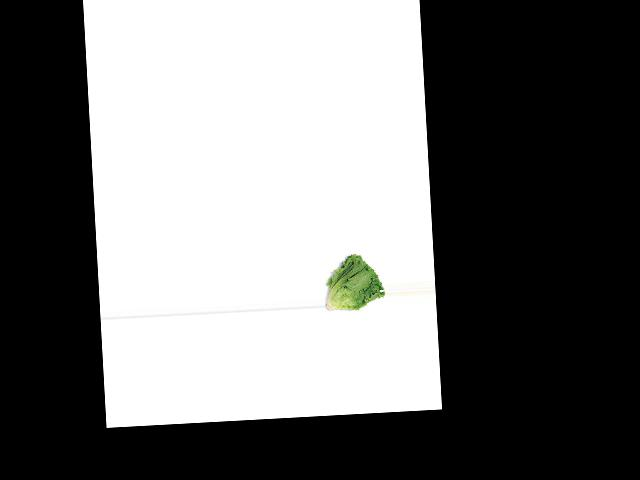lettuce: (320, 247, 385, 316)
